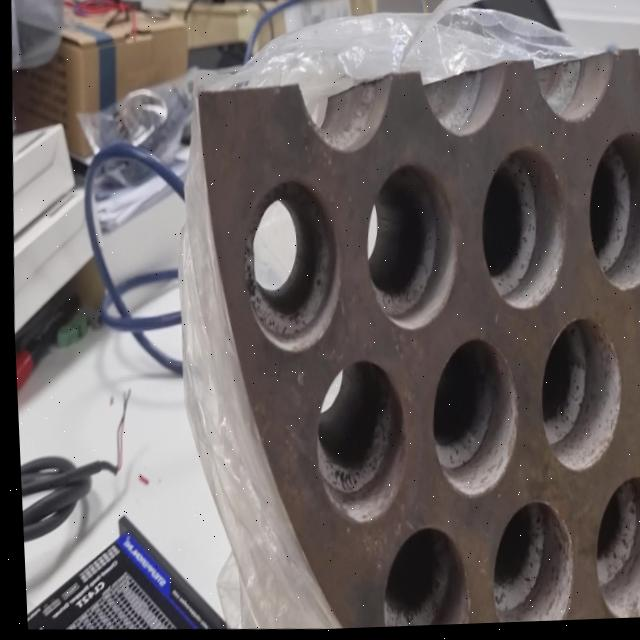Hole: (234, 176, 344, 356), (359, 164, 462, 336), (307, 358, 407, 527), (473, 147, 569, 317), (422, 338, 519, 504), (532, 318, 623, 478), (483, 501, 571, 626), (580, 133, 640, 297), (373, 525, 466, 630), (584, 478, 640, 624)
